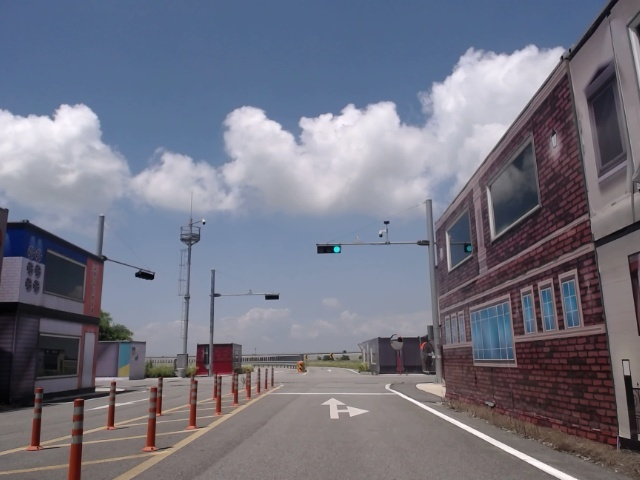green_3: (317, 245, 341, 252)
